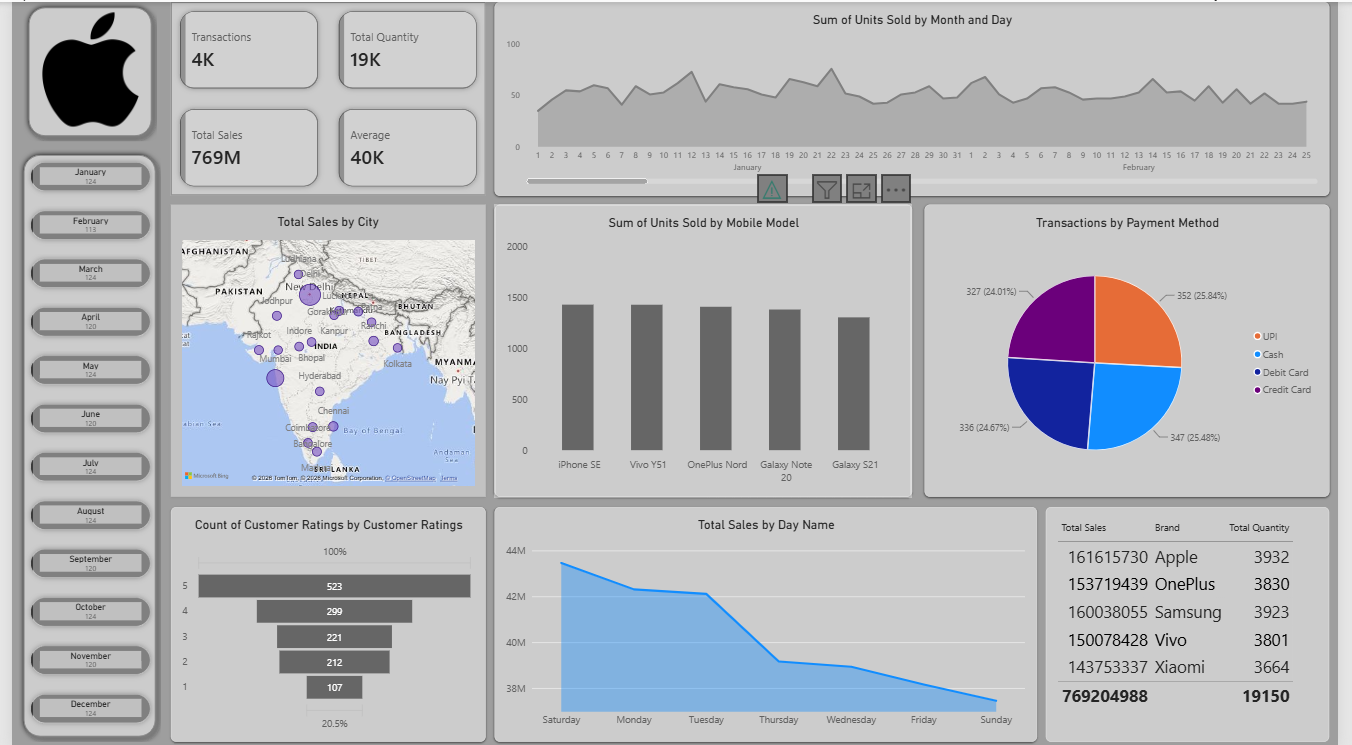

What the dashboard file says about the page in this screenshot:
{"tool":"powerbi","page":{"name":"Page 1","canvas":[1920,1080],"ordinal":0},"visuals":[{"type":"shape","box":[16.3,0,193.6,202],"z":0},{"type":"image","box":[18.1,10.9,191.8,173.7],"z":1000},{"type":"shape","box":[9,213.5,206.7,857.8],"z":2000},{"type":"advancedSlicerVisual","fields":{"Label":["CountNonNull(Sales_Data.Date.Variation.Date Hierarchy.Day)"],"Values":["Sales_Data.Date.Variation.Date Hierarchy.Month"]},"box":[16.3,220.8,195.4,842.2],"z":3000},{"type":"cardVisual","fields":{"Data":["Sales_Data.Transactions","Sales_Data.Total Quantity","Sales_Data.Total Sales","Sales_Data.Average"]},"box":[229.8,0,456,280.5],"z":4000},{"type":"map","fields":{"Category":["Sales_Data.City"],"Size":["Sales_Data.Total Sales"]},"box":[229.8,293.2,456,423.5],"z":5000},{"type":"lineChart","fields":{"Category":["Sales_Data.Date.Variation.Date Hierarchy.Month","Sales_Data.Date.Variation.Date Hierarchy.Day"],"Y":["Sum(Sales_Data.Units Sold)"]},"box":[698.5,0,1208.9,280.5],"z":6000},{"type":"columnChart","fields":{"Category":["Sales_Data.Mobile Model"],"Y":["Sum(Sales_Data.Units Sold)"]},"box":[698.5,293.2,604.4,423.5],"z":7000},{"type":"pieChart","fields":{"Category":["Sales_Data.Payment Method"],"Y":["Sales_Data.Transactions"]},"box":[1321.1,293.2,586.3,423.5],"z":9000},{"type":"funnel","fields":{"Category":["Sales_Data.Customer Ratings"],"Y":["CountNonNull(Sales_Data.Customer Ratings)"]},"box":[229.8,731.1,456,340.2],"z":9001},{"type":"areaChart","fields":{"Category":["Sales_Data.Day Name"],"Y":["Sales_Data.Total Sales"]},"box":[698.5,731.1,785.4,340.2],"z":9002},{"type":"tableEx","fields":{"Values":["Sales_Data.Total Sales","Sales_Data.Brand","Sales_Data.Total Quantity"]},"box":[1496.6,731.1,410.8,340.2],"z":9003}]}

Visuals, with their boxes in screenshot pixels (x1, y1, x2, y2), scaled from the page's 1920x1080 canvas onto the 1352x745 screenshot:
shape: [x1=11, y1=0, x2=148, y2=139]
image: [x1=13, y1=8, x2=148, y2=127]
shape: [x1=6, y1=147, x2=152, y2=739]
advancedSlicerVisual - CountNonNull(Sales_Data.Date.Variation.Date Hierarchy.Day) x Sales_Data.Date.Variation.Date Hierarchy.Month: [x1=11, y1=152, x2=149, y2=733]
cardVisual - Sales_Data.Transactions x Sales_Data.Total Quantity: [x1=162, y1=0, x2=483, y2=193]
map - Sales_Data.City x Sales_Data.Total Sales: [x1=162, y1=202, x2=483, y2=494]
lineChart - Sales_Data.Date.Variation.Date Hierarchy.Month x Sales_Data.Date.Variation.Date Hierarchy.Day: [x1=492, y1=0, x2=1343, y2=193]
columnChart - Sales_Data.Mobile Model x Sum(Sales_Data.Units Sold): [x1=492, y1=202, x2=917, y2=494]
pieChart - Sales_Data.Payment Method x Sales_Data.Transactions: [x1=930, y1=202, x2=1343, y2=494]
funnel - Sales_Data.Customer Ratings x CountNonNull(Sales_Data.Customer Ratings): [x1=162, y1=504, x2=483, y2=739]
areaChart - Sales_Data.Day Name x Sales_Data.Total Sales: [x1=492, y1=504, x2=1045, y2=739]
tableEx - Sales_Data.Total Sales x Sales_Data.Brand: [x1=1054, y1=504, x2=1343, y2=739]
